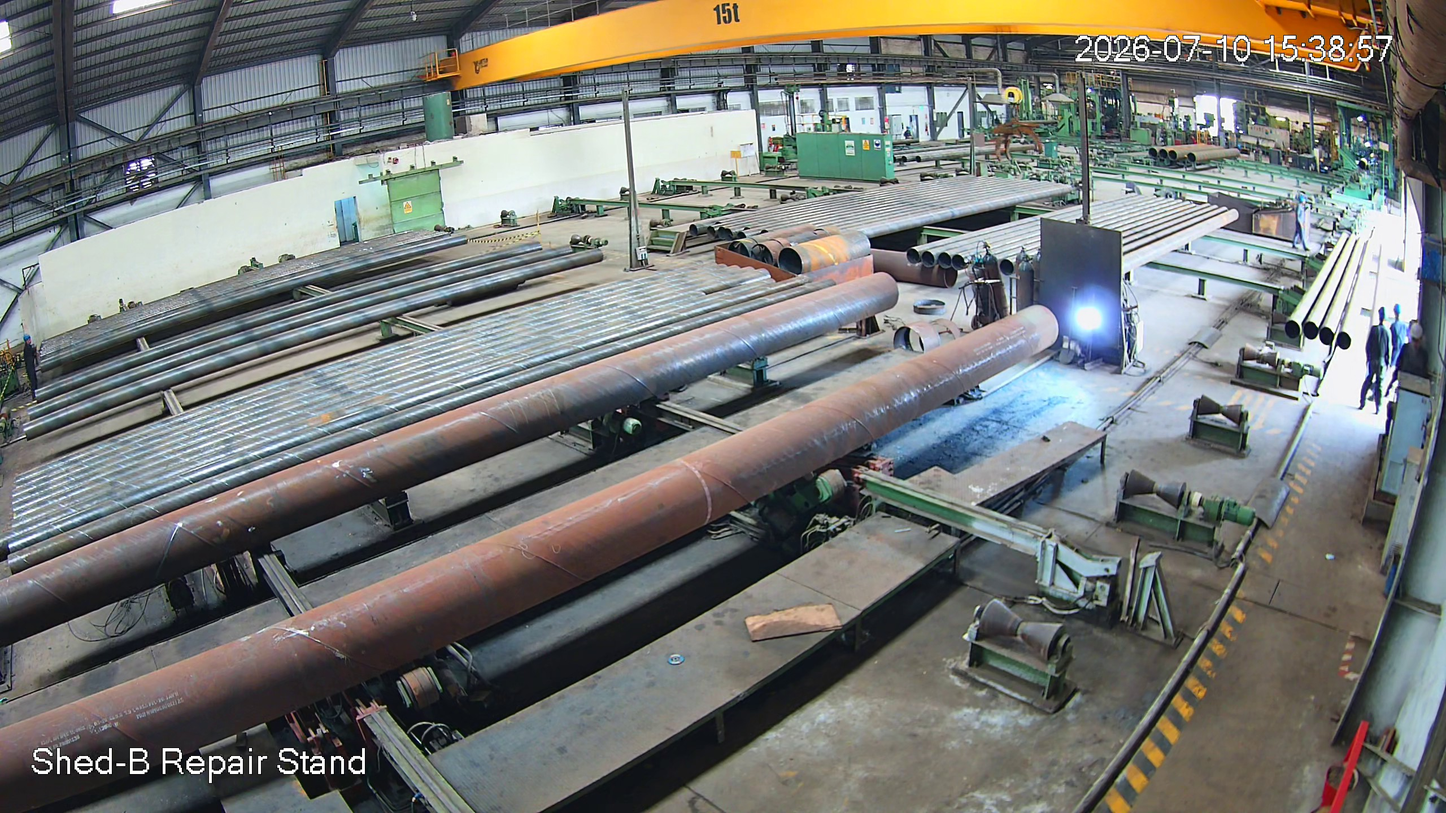Helmet: (1374, 300, 1395, 327)
Person: (1371, 304, 1400, 413)
